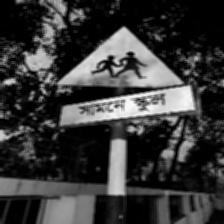School-in-front: (55, 24, 192, 129)
